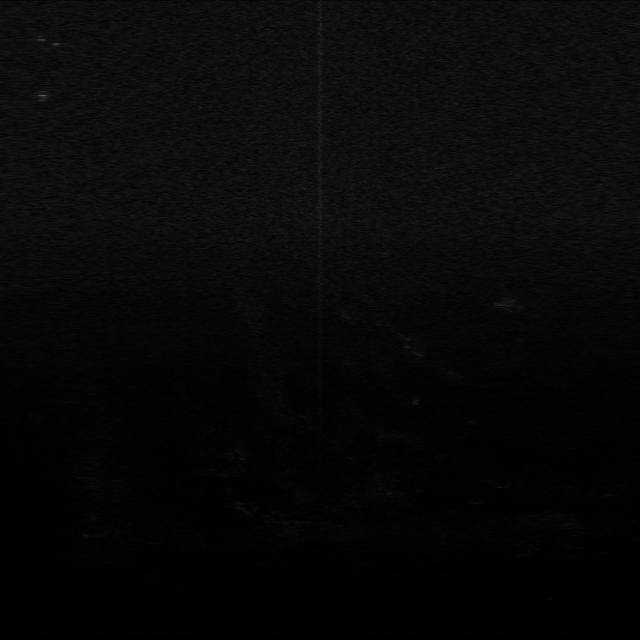rov: (28, 88, 53, 105)
